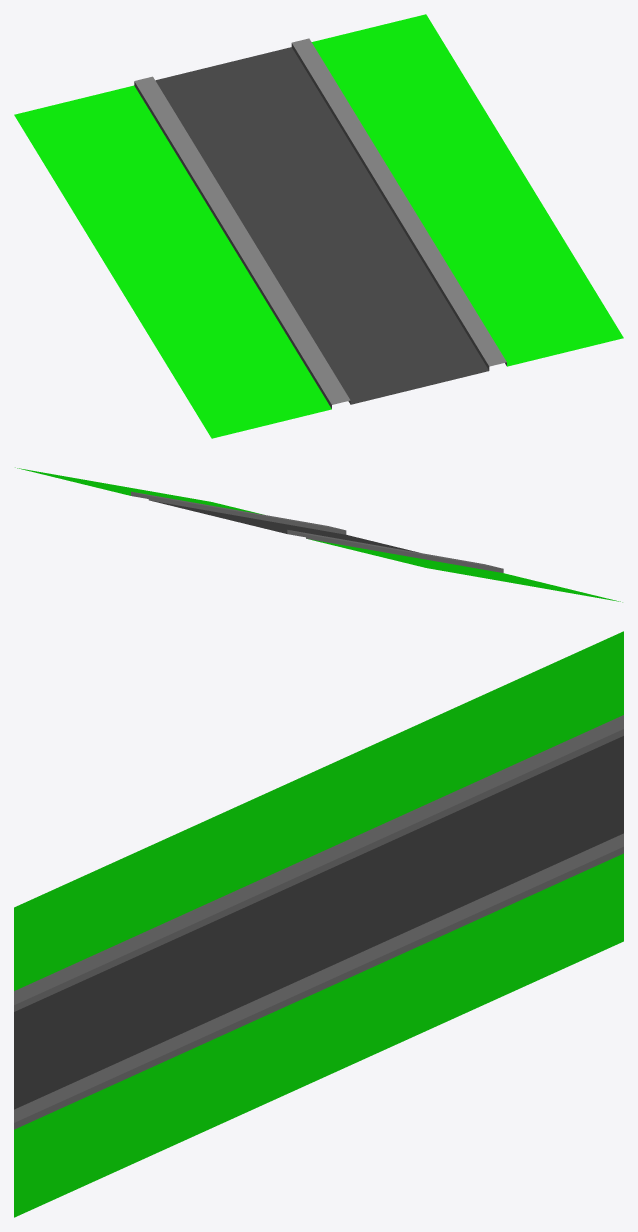
Rendered from BaseTile.fbx.
3 views of the same model, one above another, from view 1: azimuth 30°, elevation 25°; view 2: azimuth 150°, elevation 25°; view 3: azimuth 270°, elevation 25° (orthographic). The views are drawn at different scales.
Visible parts, largest first — view 1: BaseTile; view 2: BaseTile; view 3: BaseTile.
Part boxes in pixels (x1=…): BaseTile: x1=14, y1=14, x2=623, y2=438; BaseTile: x1=15, y1=467, x2=622, y2=602; BaseTile: x1=14, y1=631, x2=623, y2=1217.
Bounding box in the file's own units: 6018 × 2561 × 5000.
